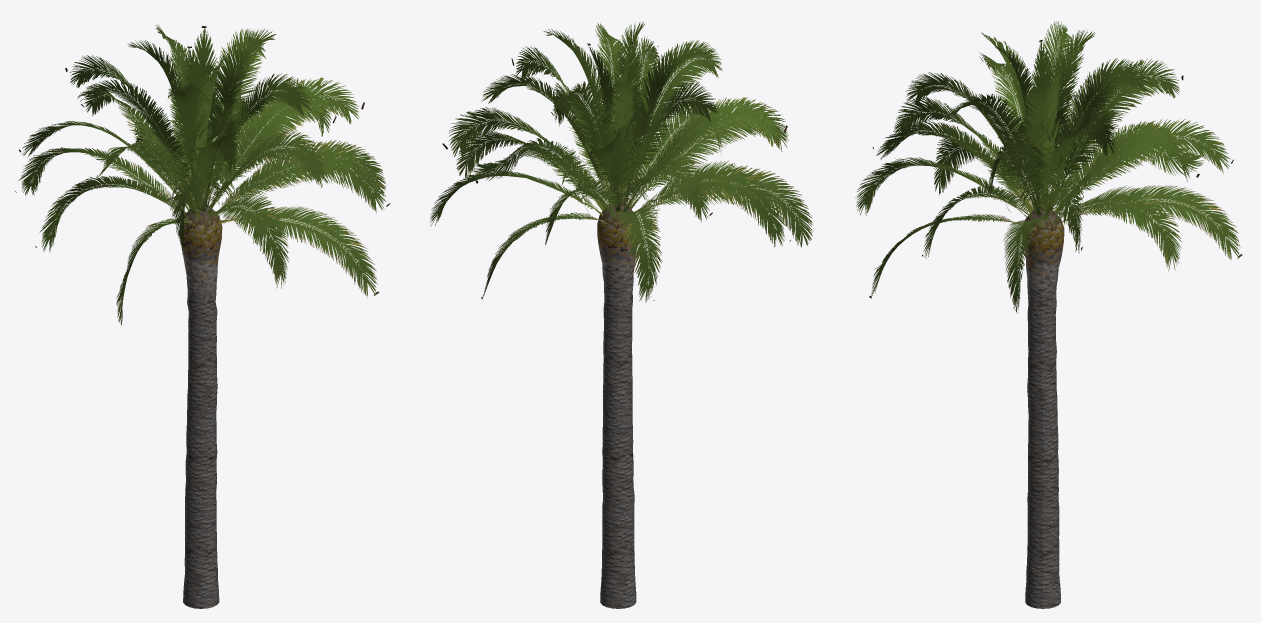
The model's file is palma-34.glb.
3 renders of one model, left to right at view 1: azimuth 30°, elevation 25°; view 2: azimuth 150°, elevation 25°; view 3: azimuth 270°, elevation 25°, orthographic.
Parts seen in each view (by area): view 1: palma-34; view 2: palma-34; view 3: palma-34.
Boxes of the visible parts, x1=… form: palma-34: x1=15, y1=24, x2=390, y2=608; palma-34: x1=430, y1=21, x2=813, y2=608; palma-34: x1=855, y1=21, x2=1242, y2=608.
Size of the model in its own units: 7.8 by 12.12 by 7.79.
Materials: 2 (2 with a texture image).
